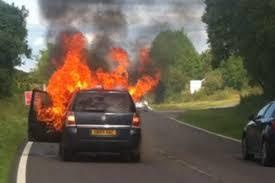fire: (38, 35, 164, 135)
